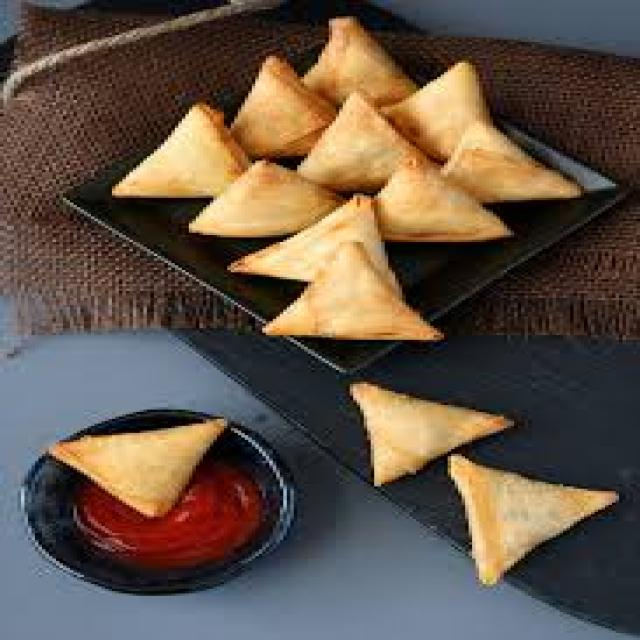SAMOSA: (451, 454, 616, 584), (262, 240, 437, 337), (350, 382, 511, 484), (49, 421, 224, 514), (231, 195, 385, 279), (112, 102, 245, 195), (374, 151, 507, 237), (189, 161, 339, 235), (441, 119, 577, 200), (381, 63, 490, 161), (301, 93, 409, 189), (231, 58, 332, 156), (308, 21, 413, 105)
